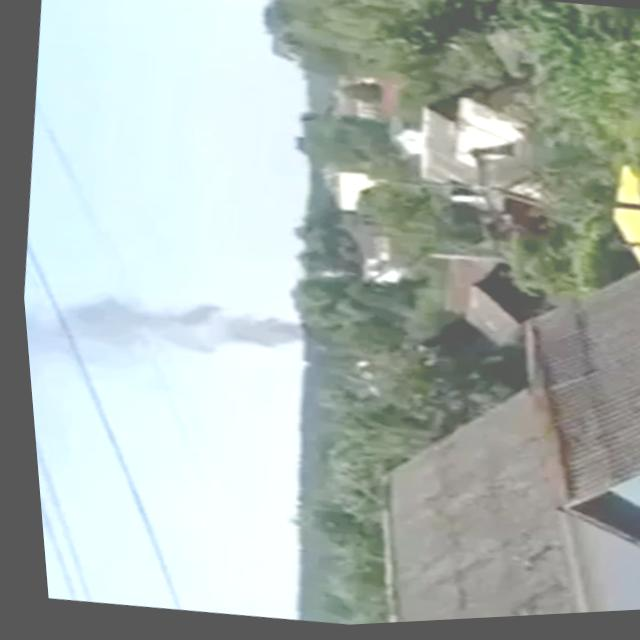Smoke: (18, 273, 305, 406)
